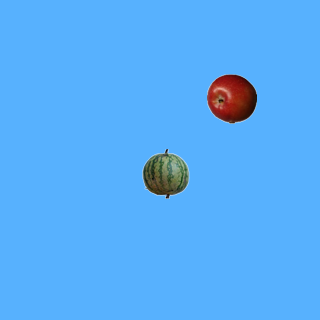Apple Braeburn: (206, 73, 256, 123)
Watermelon: (140, 148, 190, 198)
